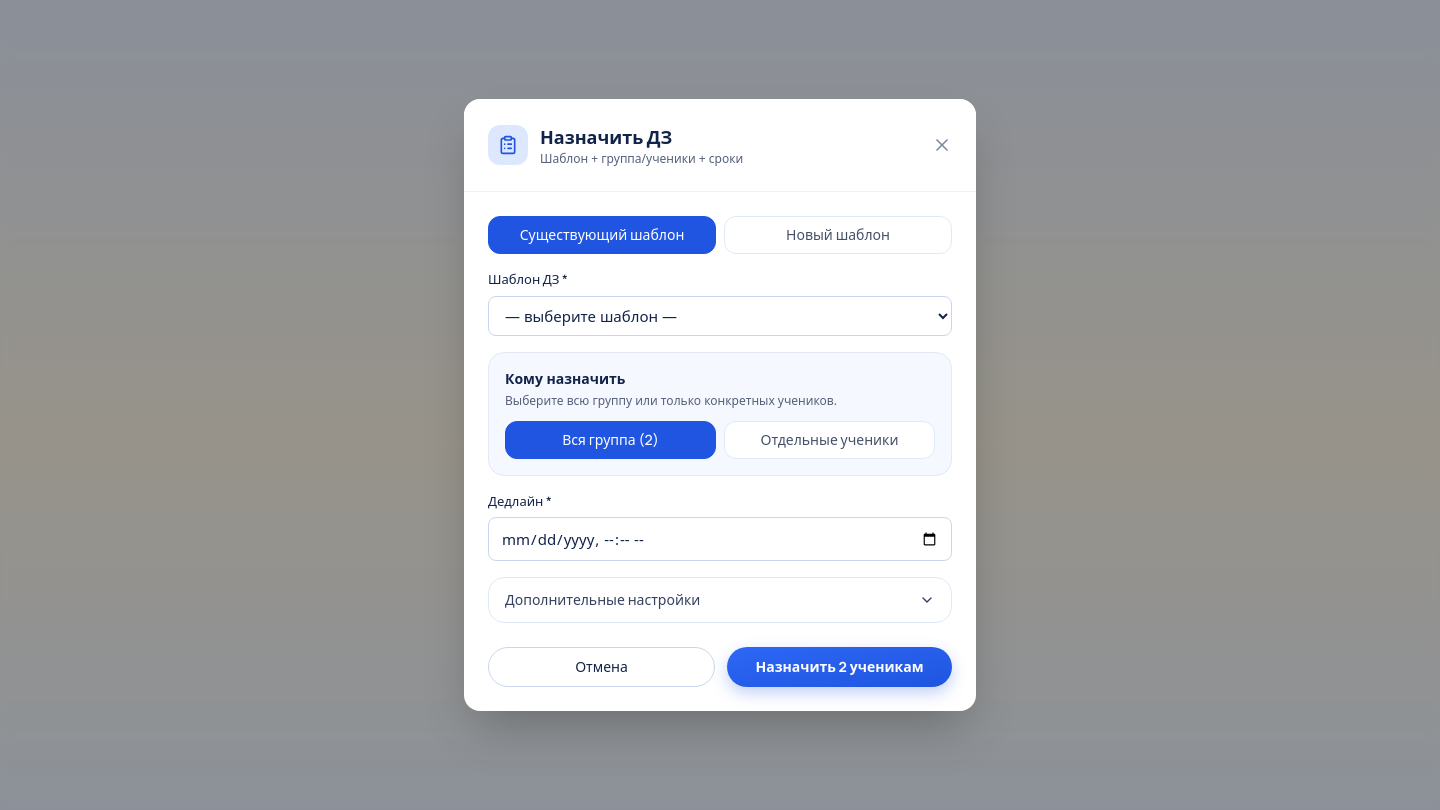
Test: AssignHomeworkTemplateModal › без выбора шаблона и без дедлайна показывает ошибку валидации, assign не вызывается
Click the button "Назначить 2 ученикам" at (840, 667), box [727,647,952,687]
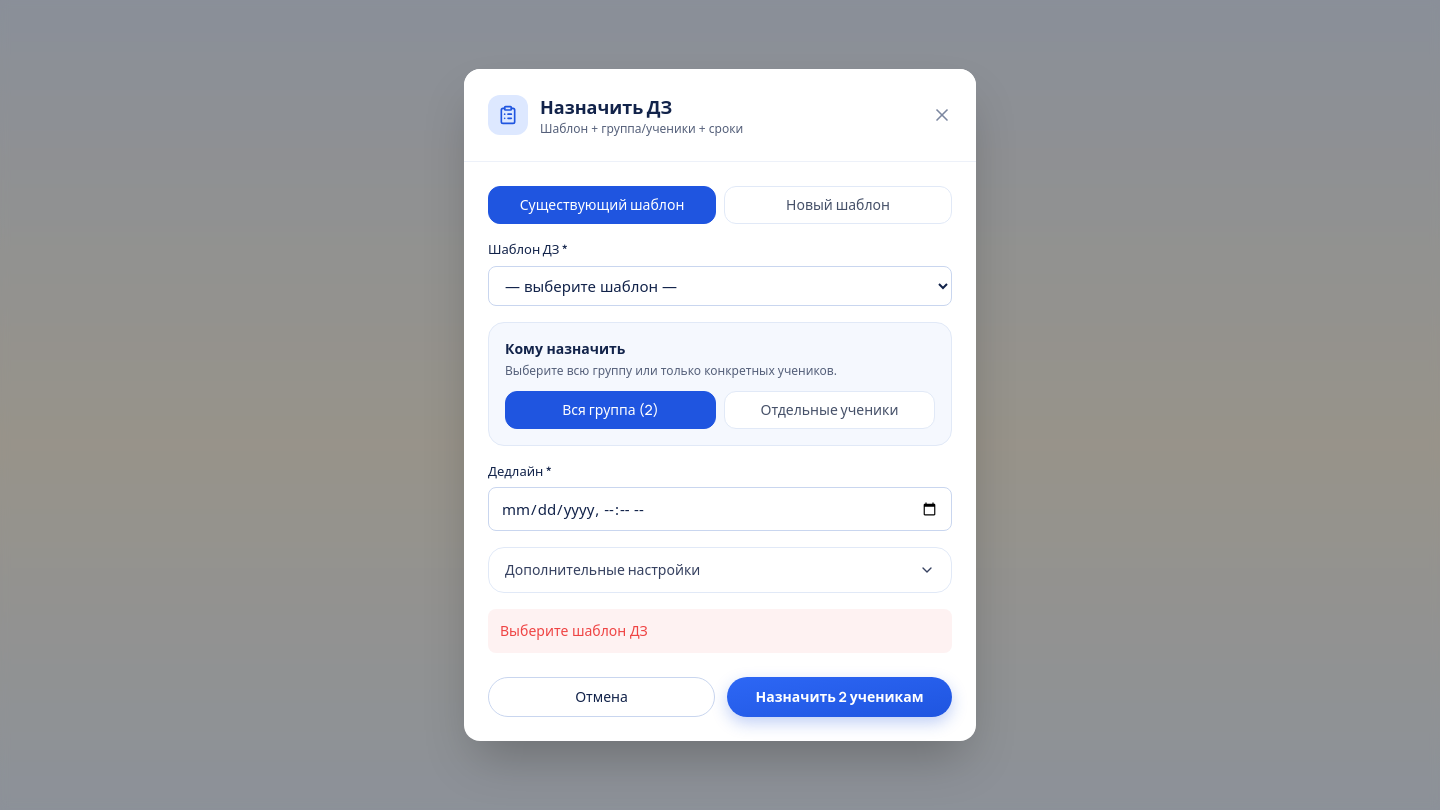
expect the text "Выберите шаблон ДЗ" is shown: met, box [488,609,952,653]
